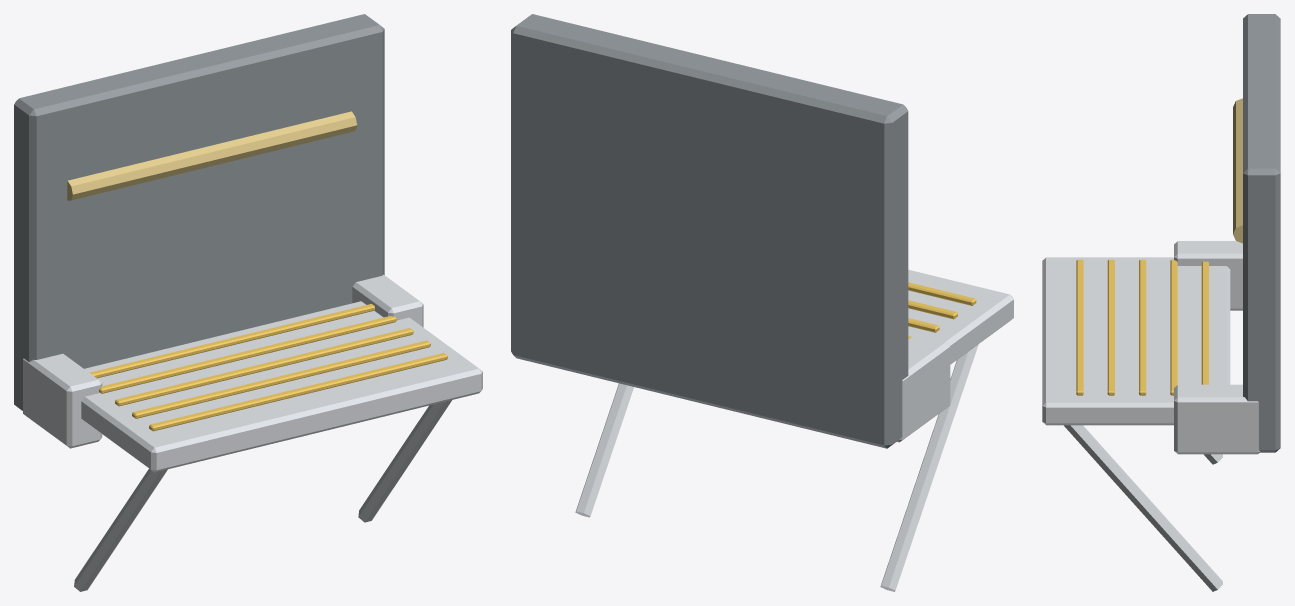
The model's file is submarine-interior-and-control-room-folding-step-440b1a07__36513.glb.
The picture shows the model from 3 angles, left to right: view 1: azimuth 30°, elevation 25°; view 2: azimuth 150°, elevation 25°; view 3: azimuth 270°, elevation 25°; orthographic projection. The views are drawn at different scales.
Visible parts, largest first — view 1: folding-step, step/metal, step/amber; view 2: folding-step, step/metal, step/amber; view 3: step/metal, folding-step, step/amber.
Boxes of the visible parts, bbox=[...] form: folding-step: bbox=[14, 14, 423, 448]; step/metal: bbox=[74, 301, 482, 591]; step/amber: bbox=[89, 304, 447, 431]; folding-step: bbox=[511, 14, 950, 448]; step/metal: bbox=[575, 269, 1013, 591]; step/amber: bbox=[908, 282, 976, 339]; step/metal: bbox=[1042, 257, 1230, 591]; folding-step: bbox=[1174, 14, 1280, 454]; step/amber: bbox=[1076, 259, 1208, 395].
Bounding box in the file's own units: 0.6024 × 0.7666 × 0.38.
